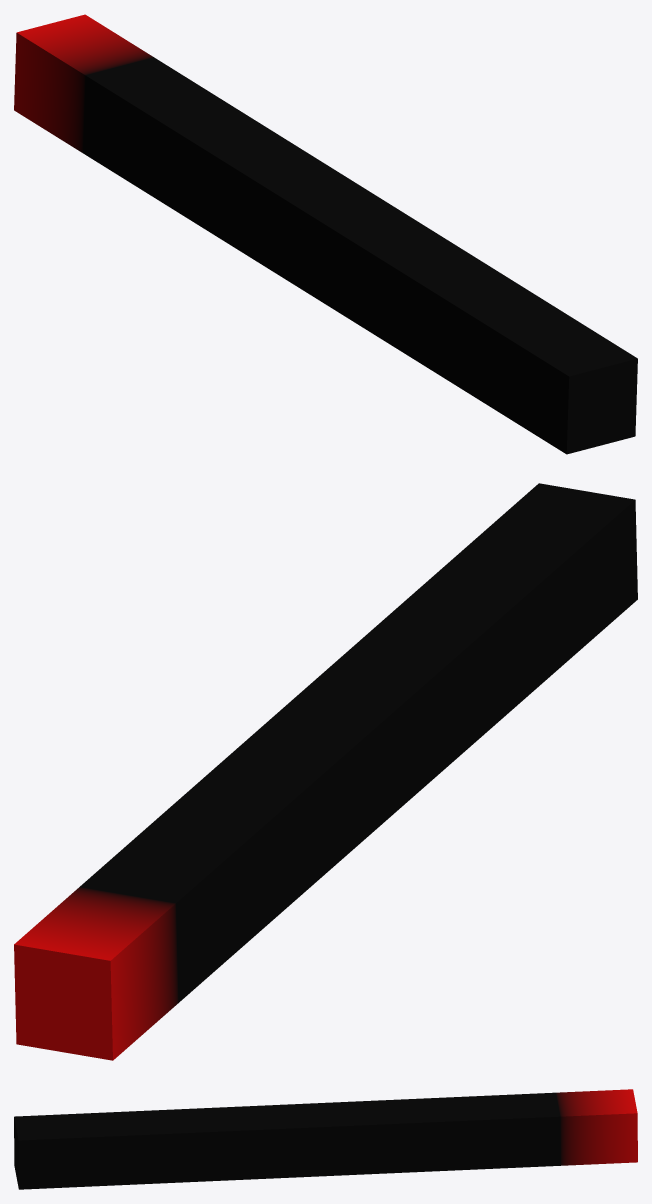
The model's file is columna.fbx.
3 renders of one model, top to bottom at view 1: azimuth 30°, elevation 25°; view 2: azimuth 150°, elevation 25°; view 3: azimuth 270°, elevation 25°, orthographic. The views are drawn at different scales.
Visible parts, largest first — view 1: Cube.003; view 2: Cube.003; view 3: Cube.003.
Boxes of the visible parts, x1,y1,x2,y2 form: Cube.003: (14,14,637,454); Cube.003: (14,483,637,1060); Cube.003: (14,1089,637,1189).
Bounding box in the file's own units: 625 × 108 × 62.45.
